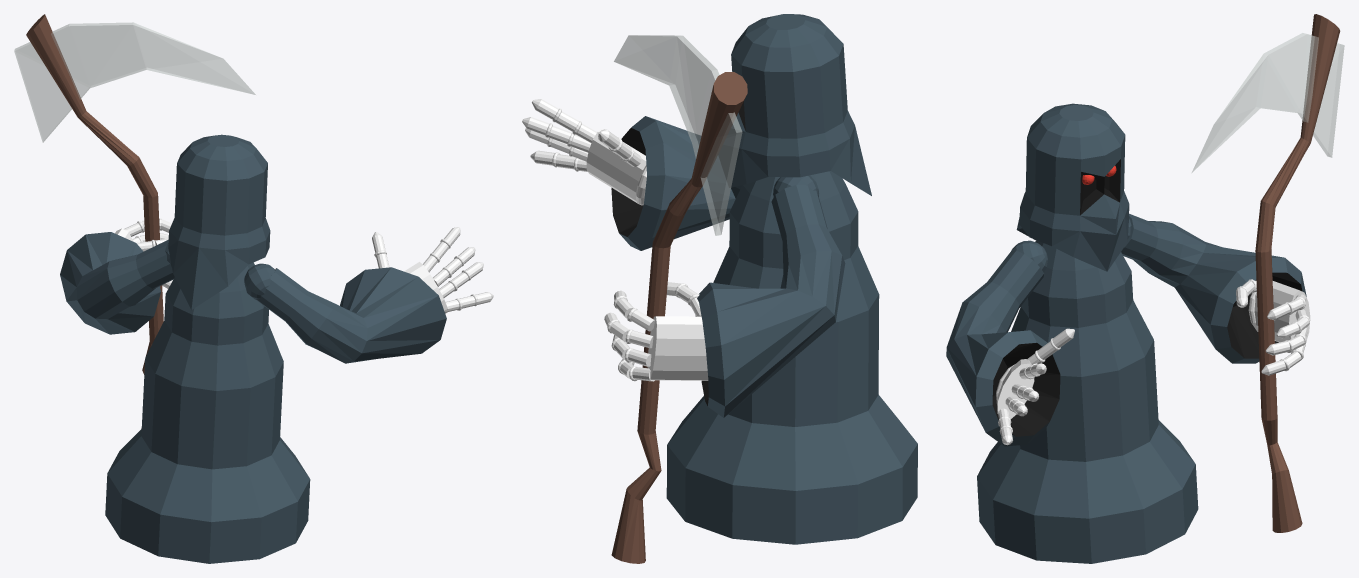
The model's file is scene_X6YtcIJ67f.glb.
The picture shows the model from 3 angles, left to right: view 1: azimuth 30°, elevation 25°; view 2: azimuth 150°, elevation 25°; view 3: azimuth 270°, elevation 25°; orthographic projection. The views are drawn at different scales.
Visible parts, largest first — view 1: group892375890; view 2: group892375890; view 3: group892375890.
Boxes of the visible parts, bbox=[...] form: group892375890: bbox=[14, 14, 493, 563]; group892375890: bbox=[522, 14, 917, 563]; group892375890: bbox=[946, 14, 1344, 563].
Bounding box in the file's own units: 0.8913 × 1.12 × 0.846.
